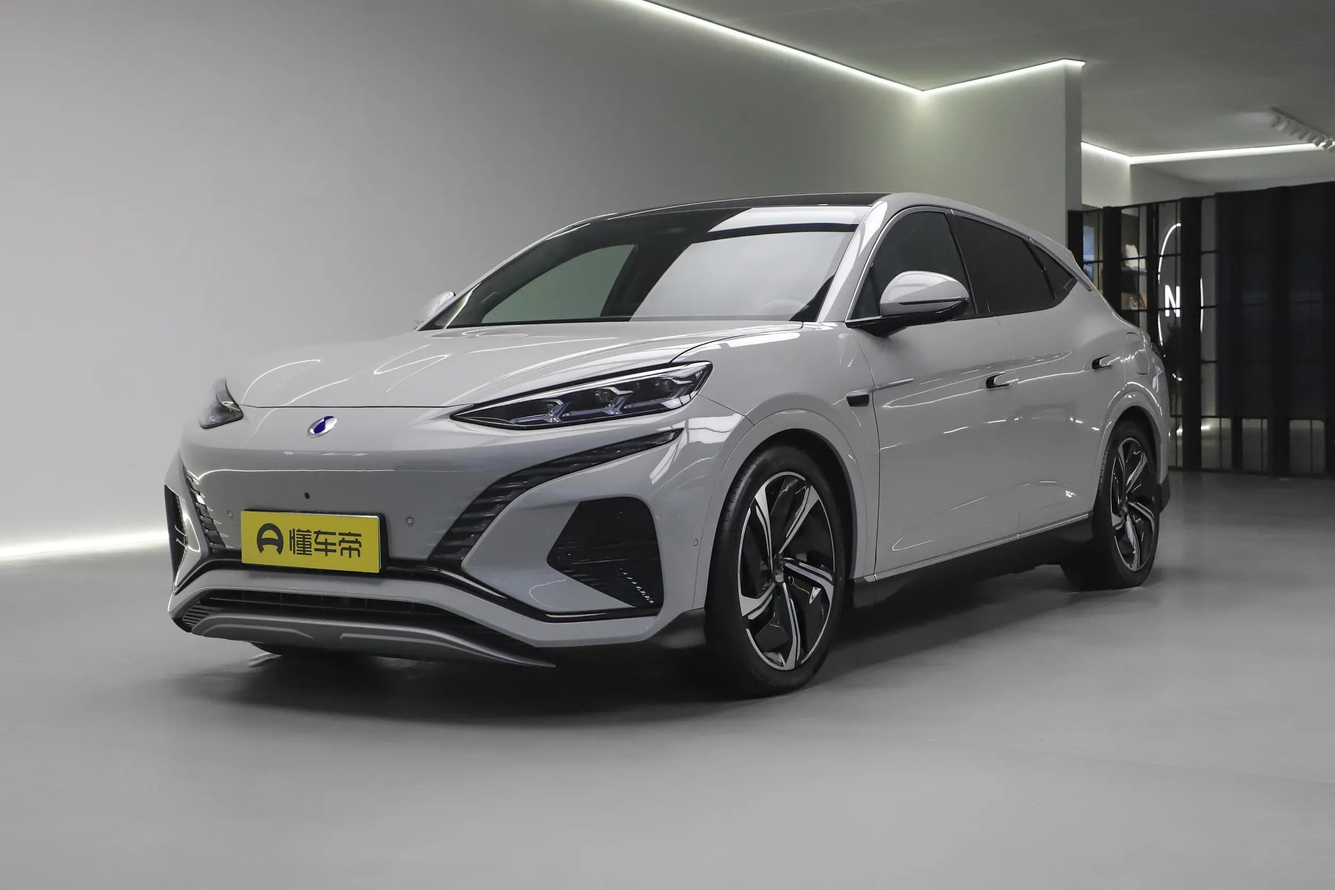DENZA: (307, 416, 336, 438)
